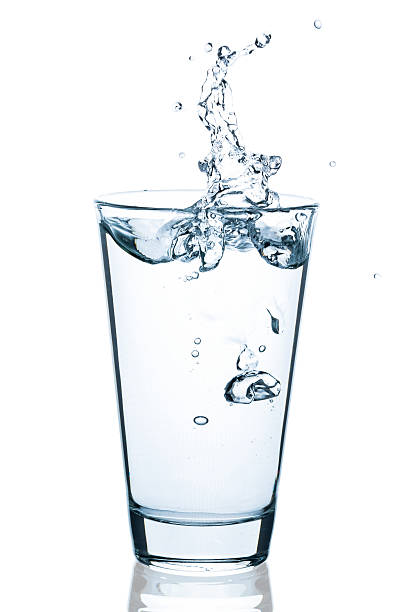glass of water: (86, 42, 318, 577)
